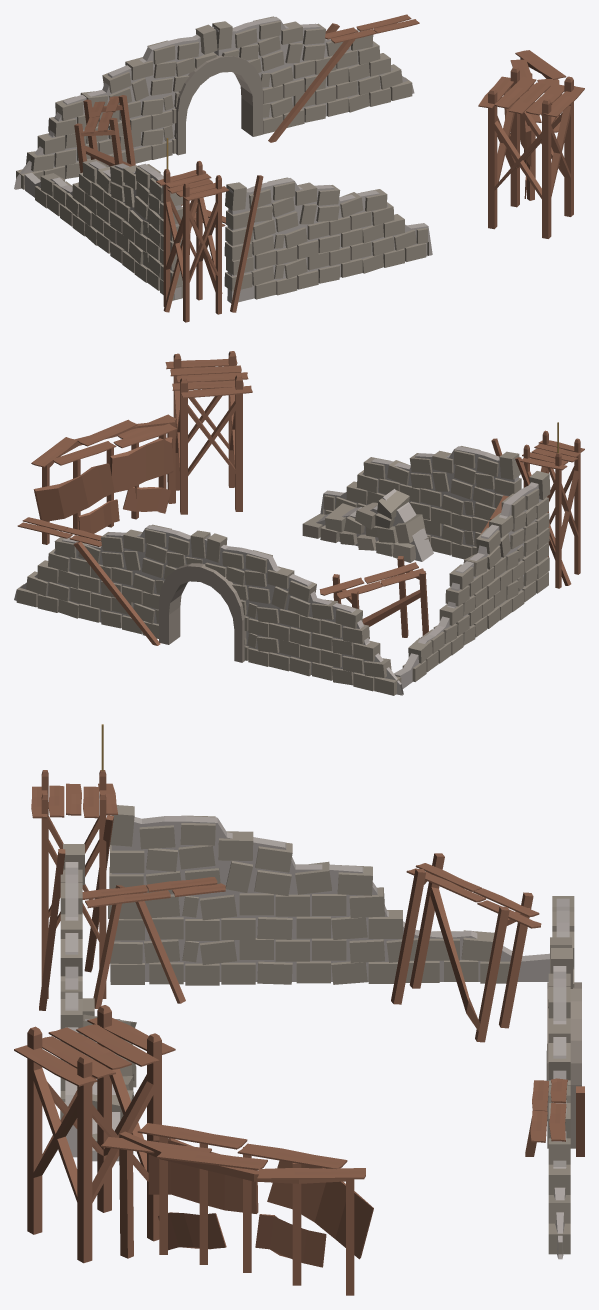
The model's file is zamek.glb.
The picture shows the model from 3 angles, top to bottom: view 1: azimuth 30°, elevation 25°; view 2: azimuth 150°, elevation 25°; view 3: azimuth 270°, elevation 25°; orthographic projection. The views are drawn at different scales.
Parts seen in each view (by area): view 1: Cube.164; view 2: Cube.164; view 3: Cube.164.
Boxes of the visible parts, x1=… form: Cube.164: x1=14, y1=14, x2=584, y2=322; Cube.164: x1=14, y1=351, x2=584, y2=695; Cube.164: x1=14, y1=724, x2=584, y2=1295.
Size of the model in its own units: 26.17 by 9.34 by 19.07.
